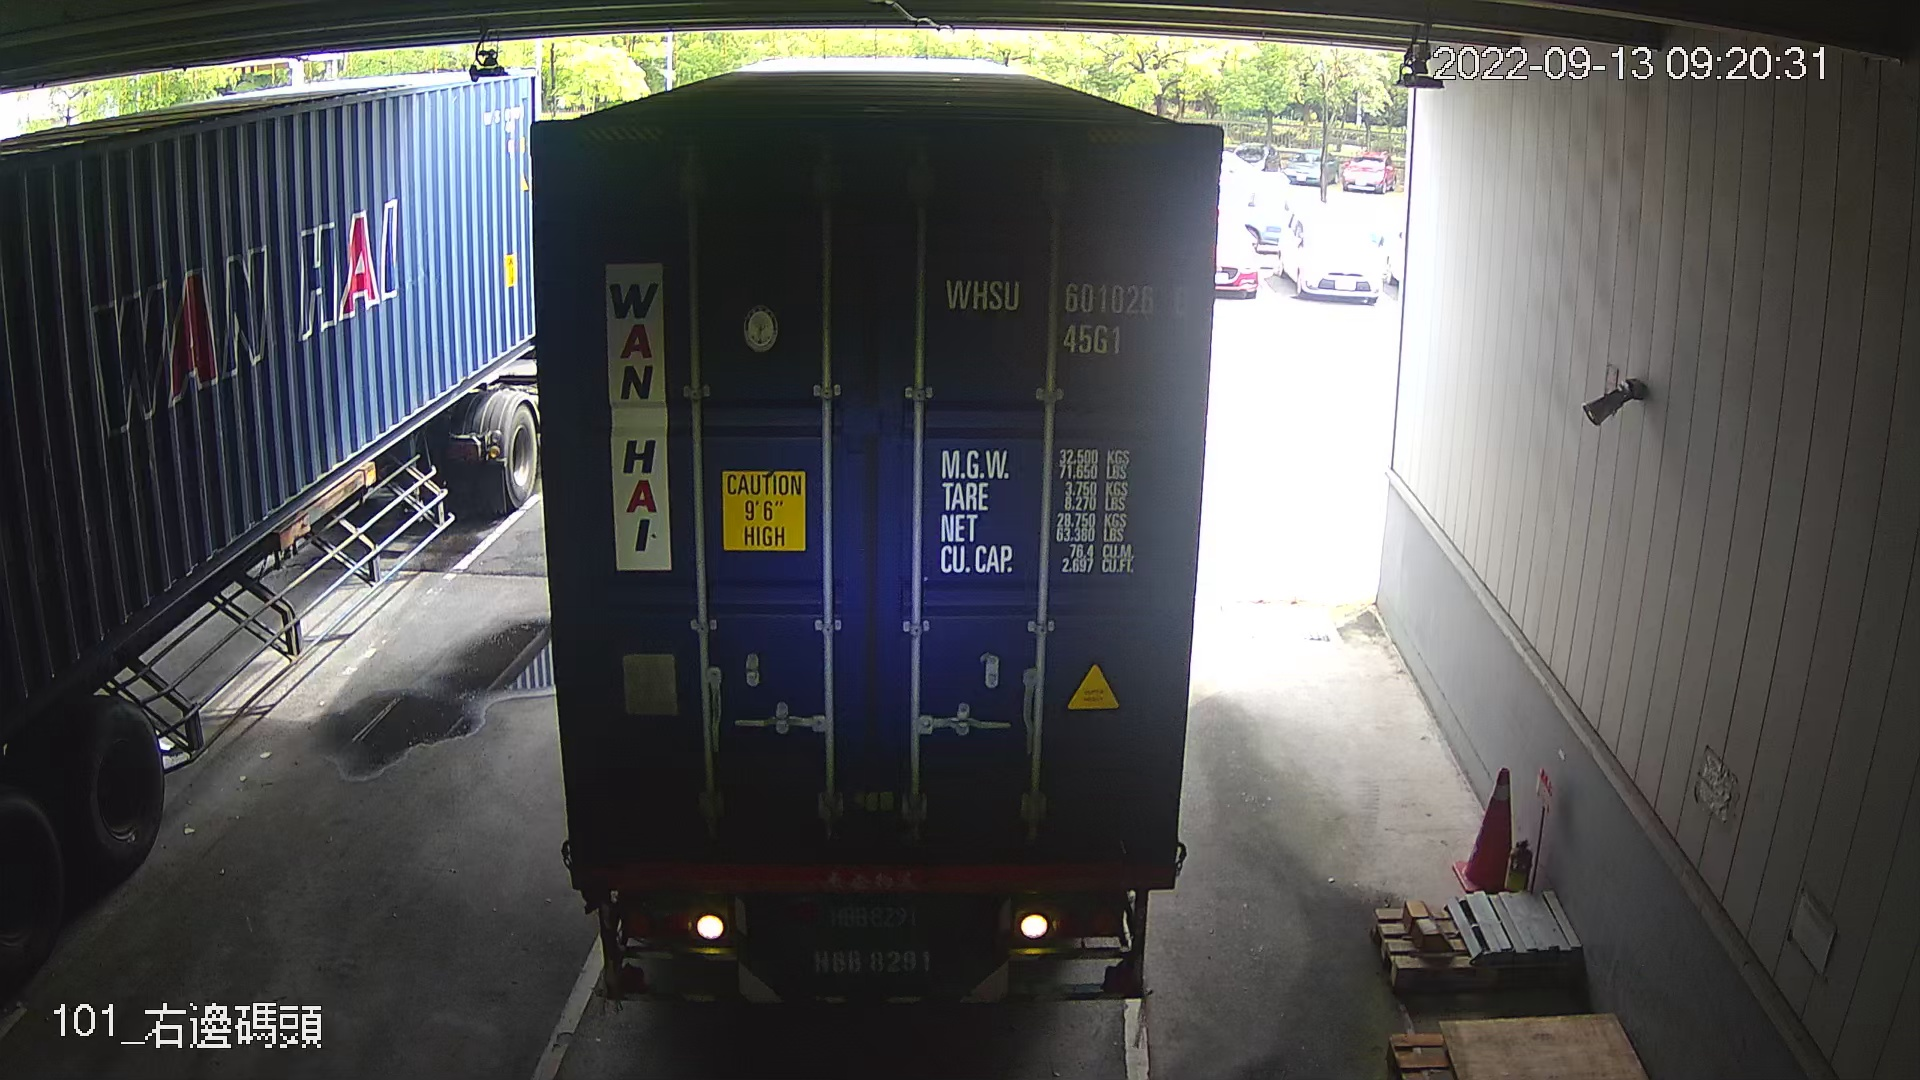container: (934, 262, 1200, 369)
